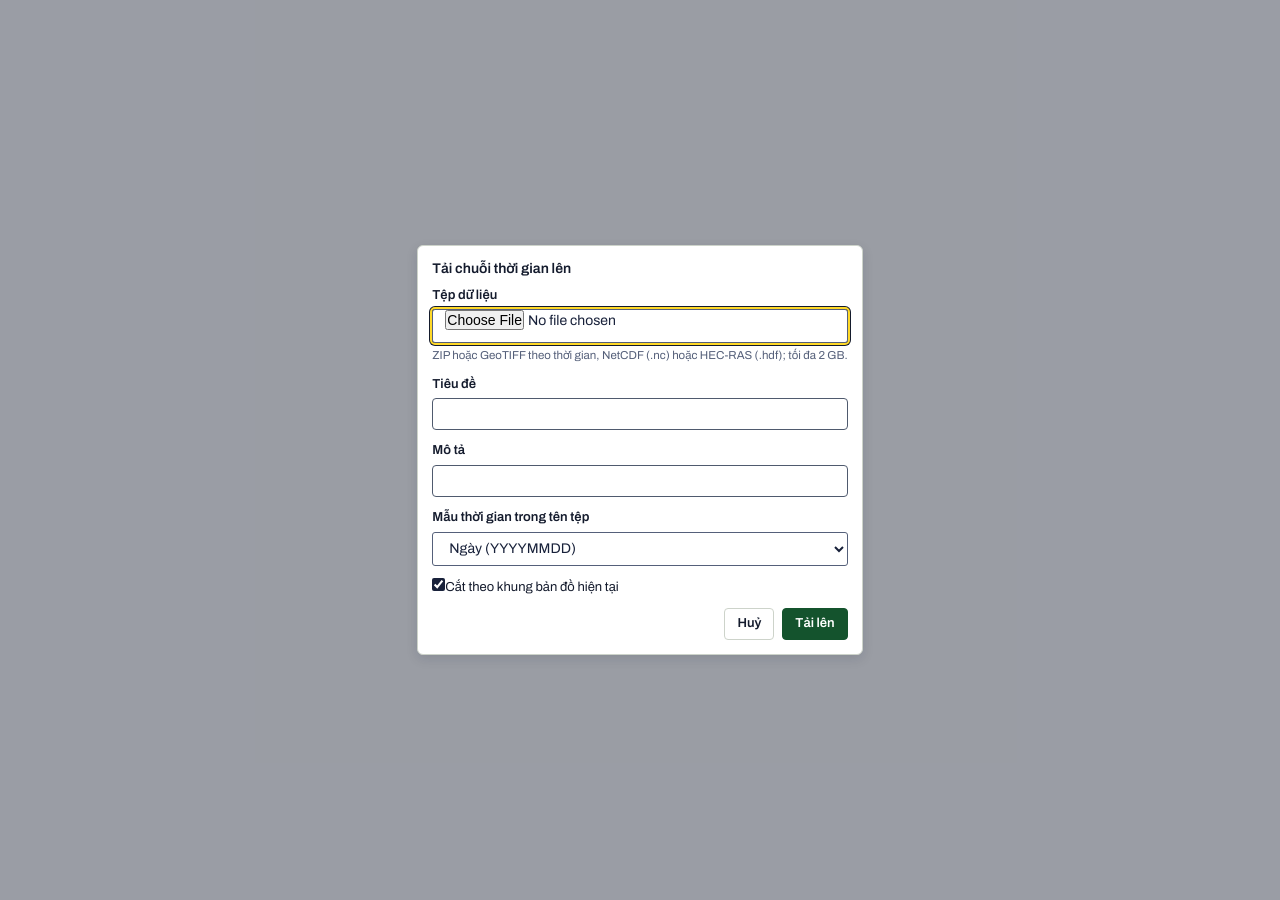
Scenario: TimeseriesUploadDialog › shows the API refusal, e.g. no SSO
Earlier steps of the test are not shown.
Type "Mưa" into the field labelled "Tiêu đề" at x=640, y=414, box [432,398,848,430]
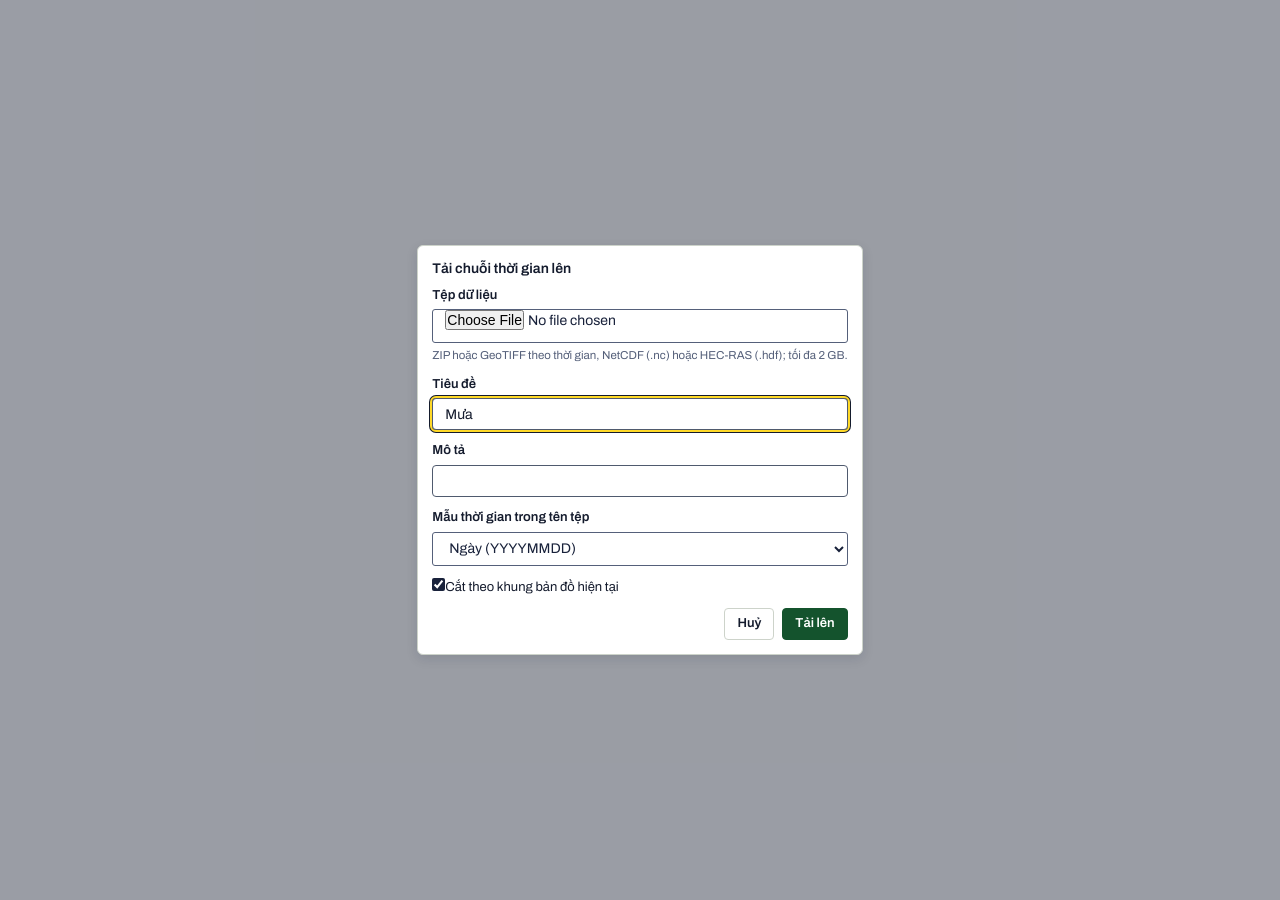
Click the button "Tải lên" at x=815, y=624, box [782,608,848,640]
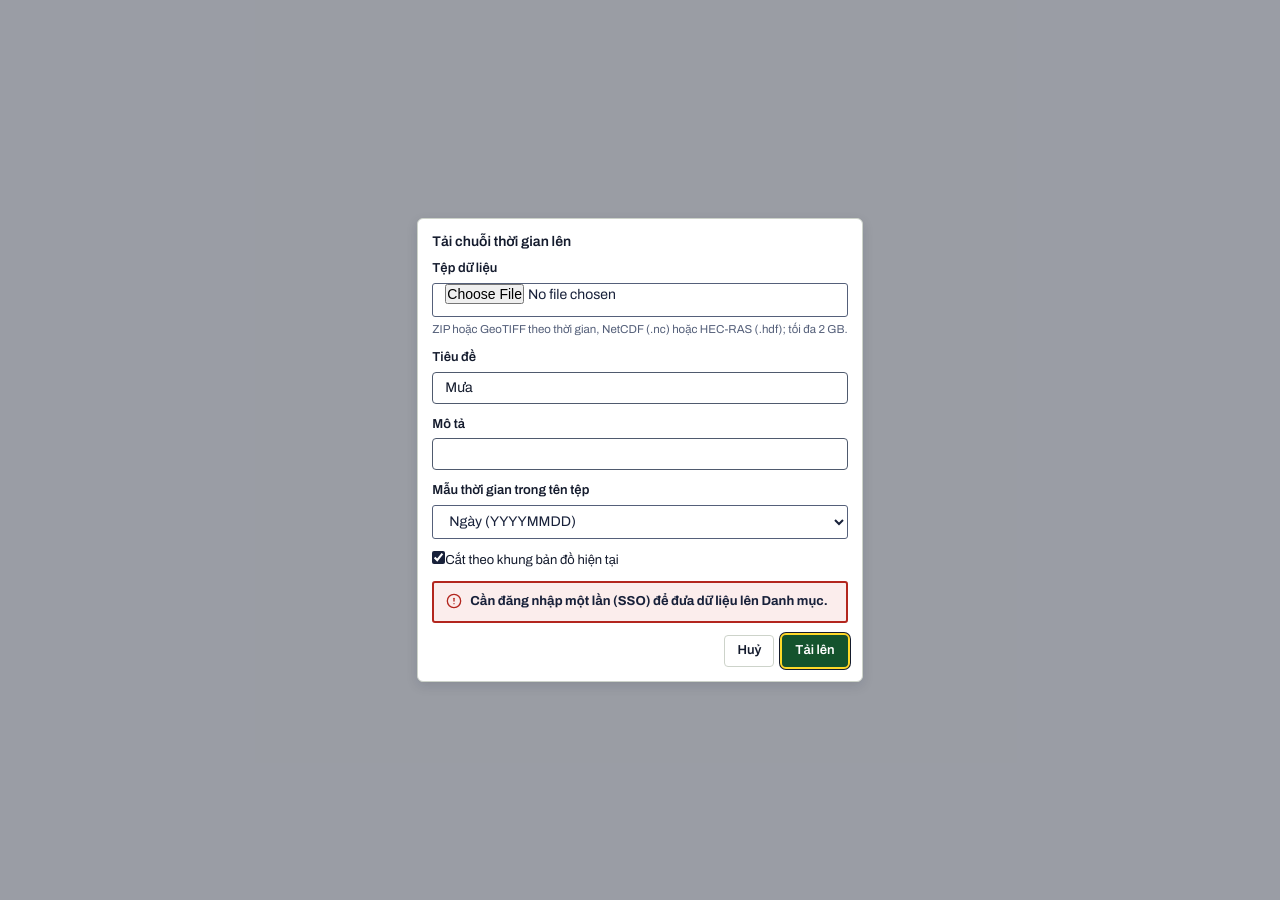
expect the text "Cần đăng nhập một lần (SSO) để đưa dữ liệu lên Danh mục." is shown: met, box [470,594,828,608]
